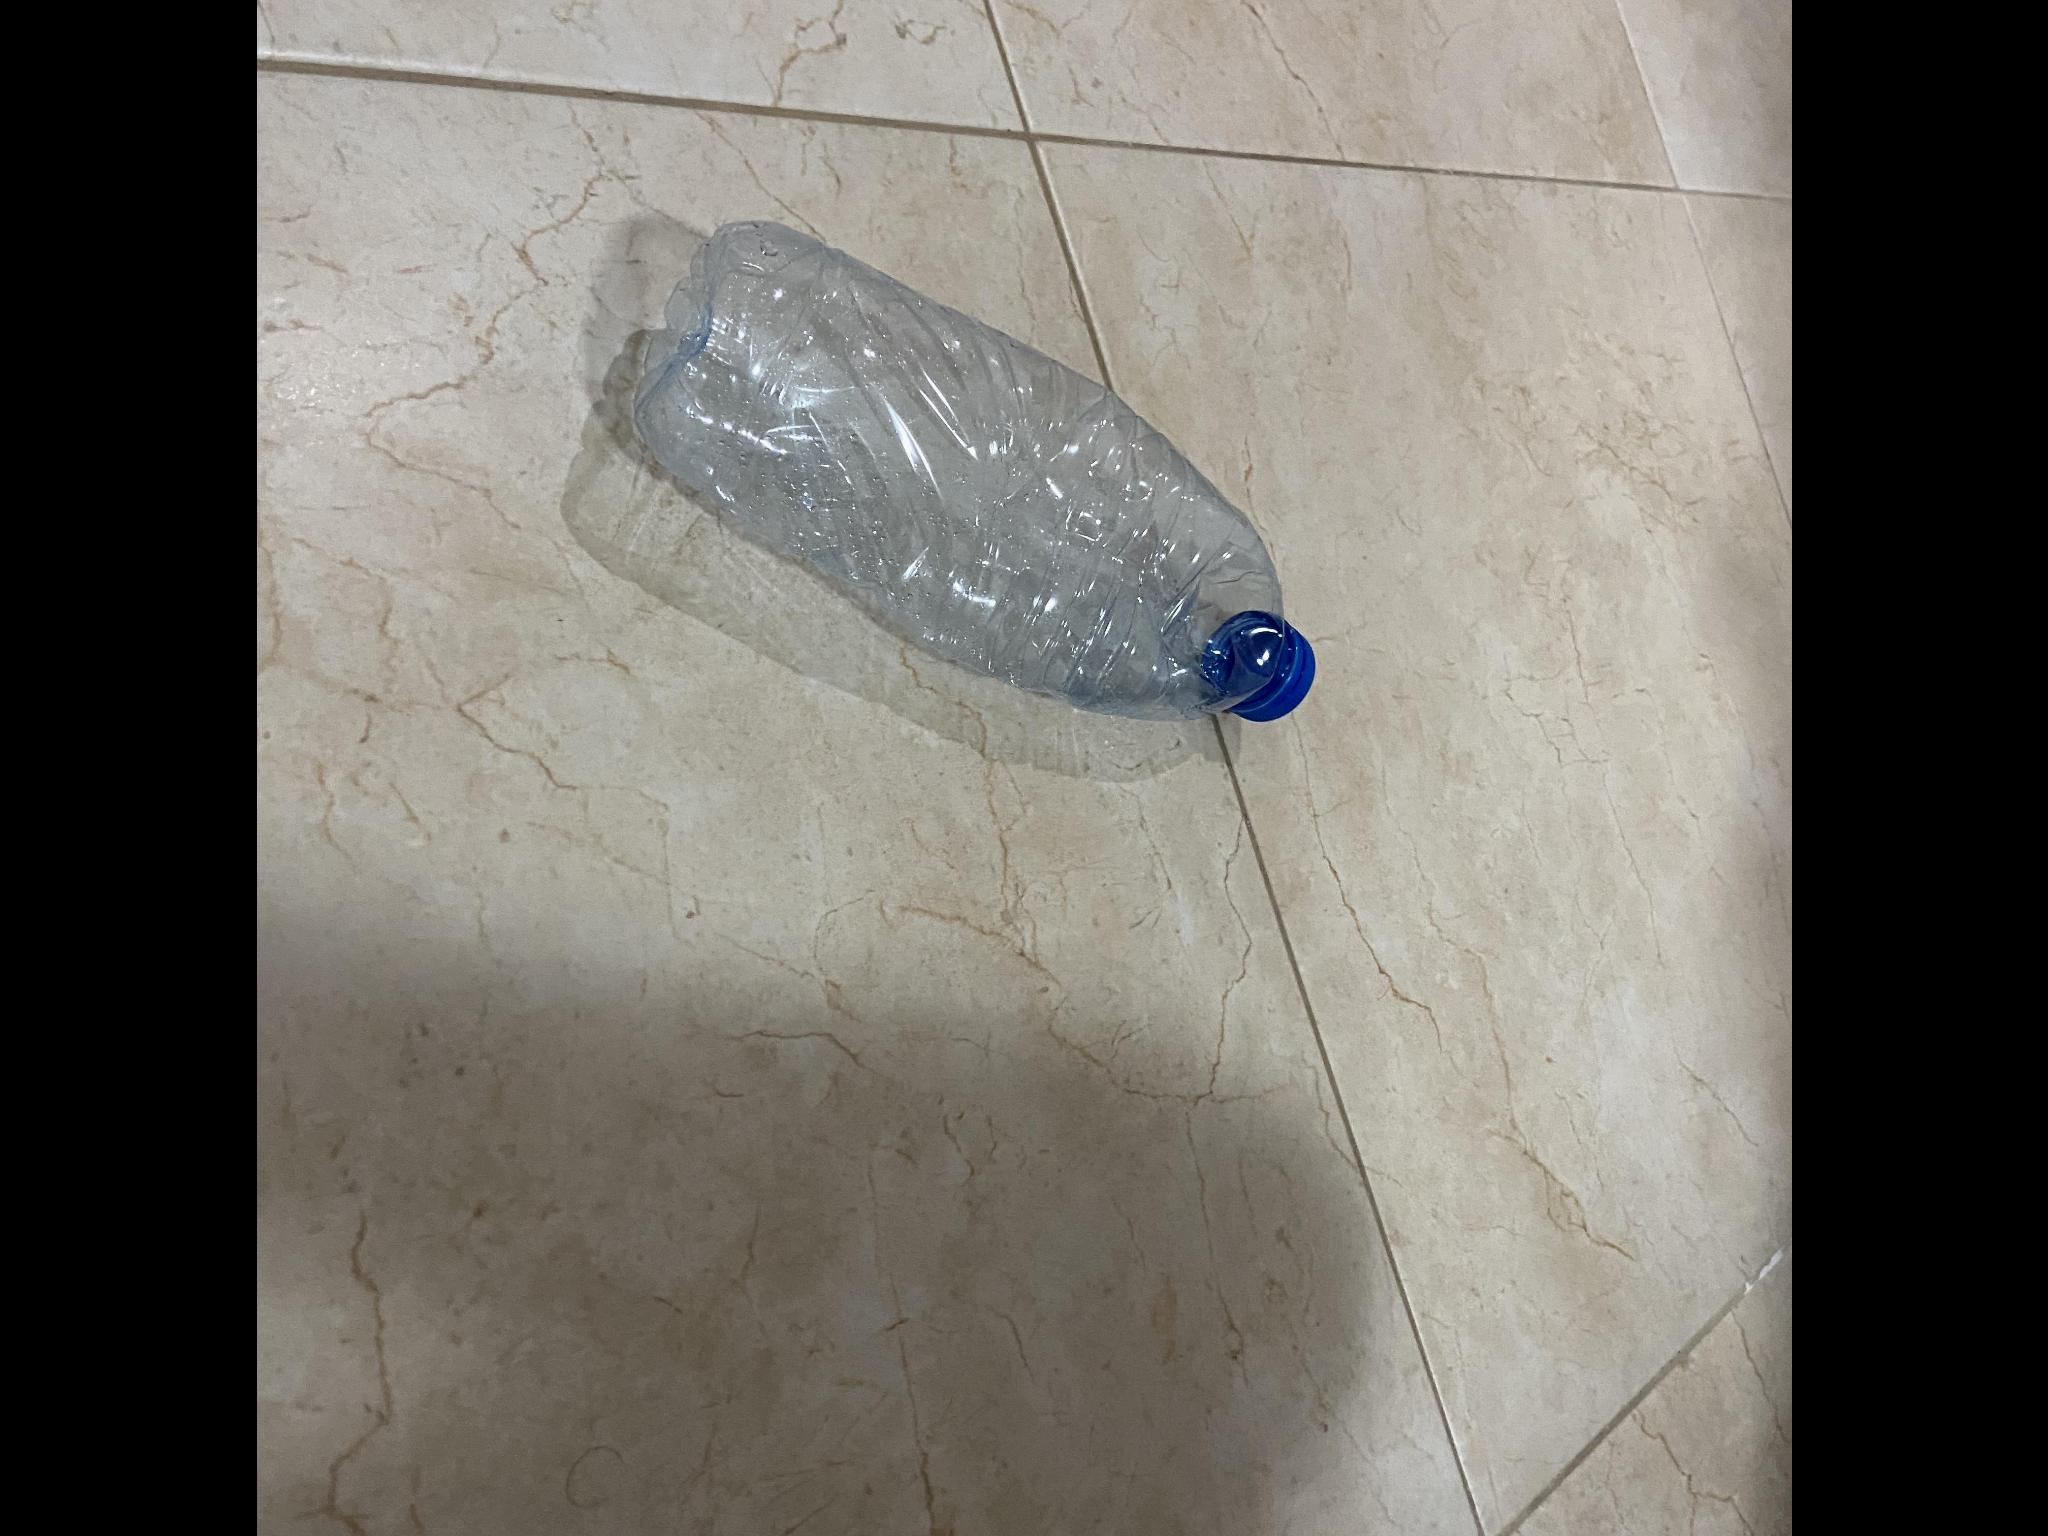bottle: (608, 210, 1379, 747)
